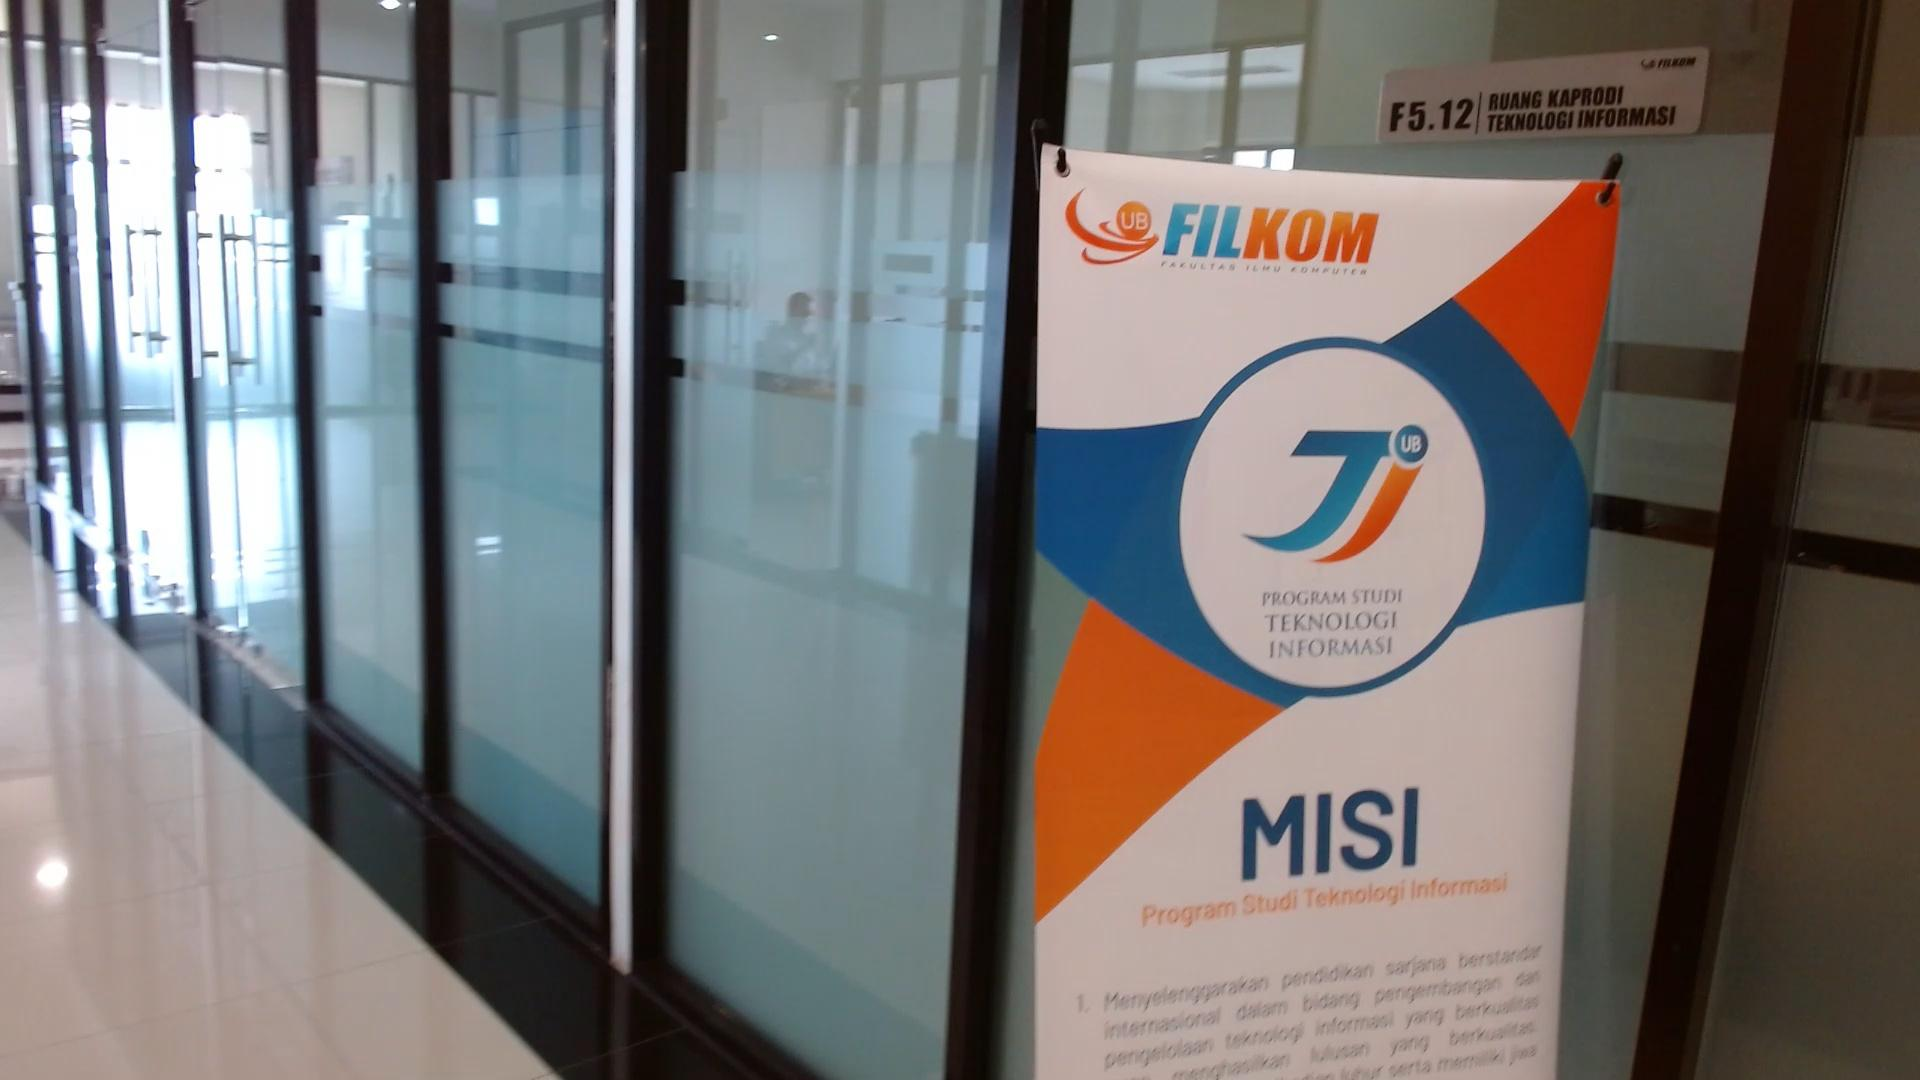plate: (1378, 47, 1706, 145)
